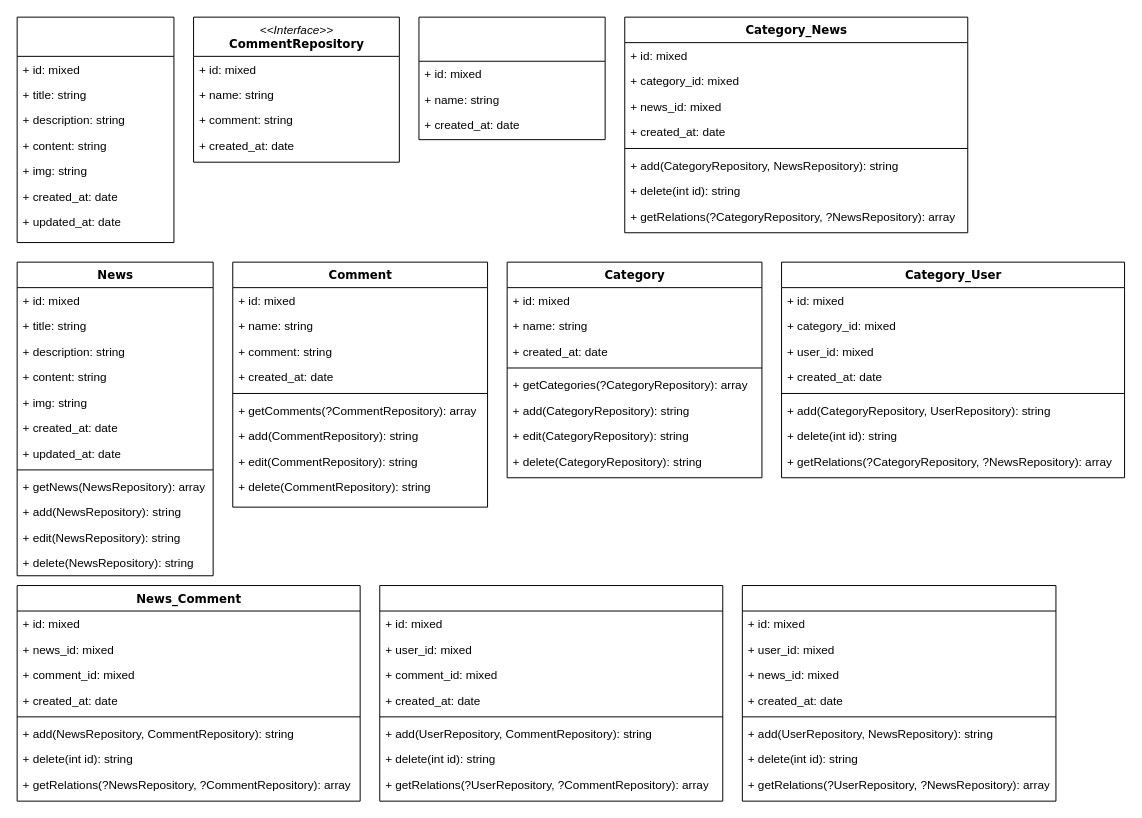
The diagram is 1142 pixels wide and 818 high, and some of its shapes have lost their labels. The box of each missing label's shape, as (x1, y1, x2, y2) in pixels:
<<Interface>> CategoryRepository: (418, 16, 605, 140)
<<Interface>> NewsRepository: (16, 16, 174, 243)
User_Comment: (379, 585, 723, 801)
User_News: (741, 585, 1056, 801)
